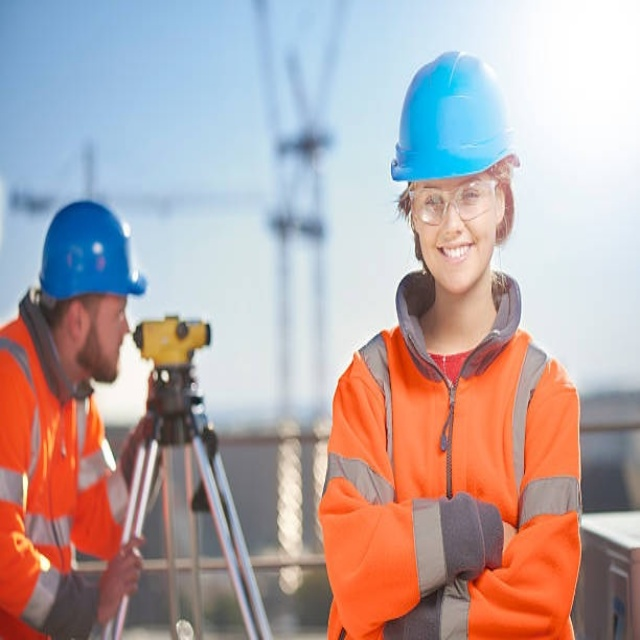Gafas: (407, 177, 501, 224)
Sin_gafas: (85, 295, 130, 323)
Sin_guantes: (96, 534, 145, 625)
Sin_mascara: (431, 234, 481, 281), (94, 331, 128, 383)
